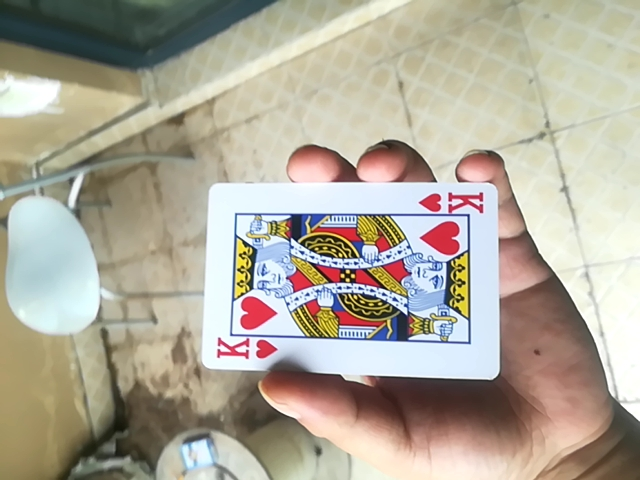hx k: (201, 182, 497, 378)
